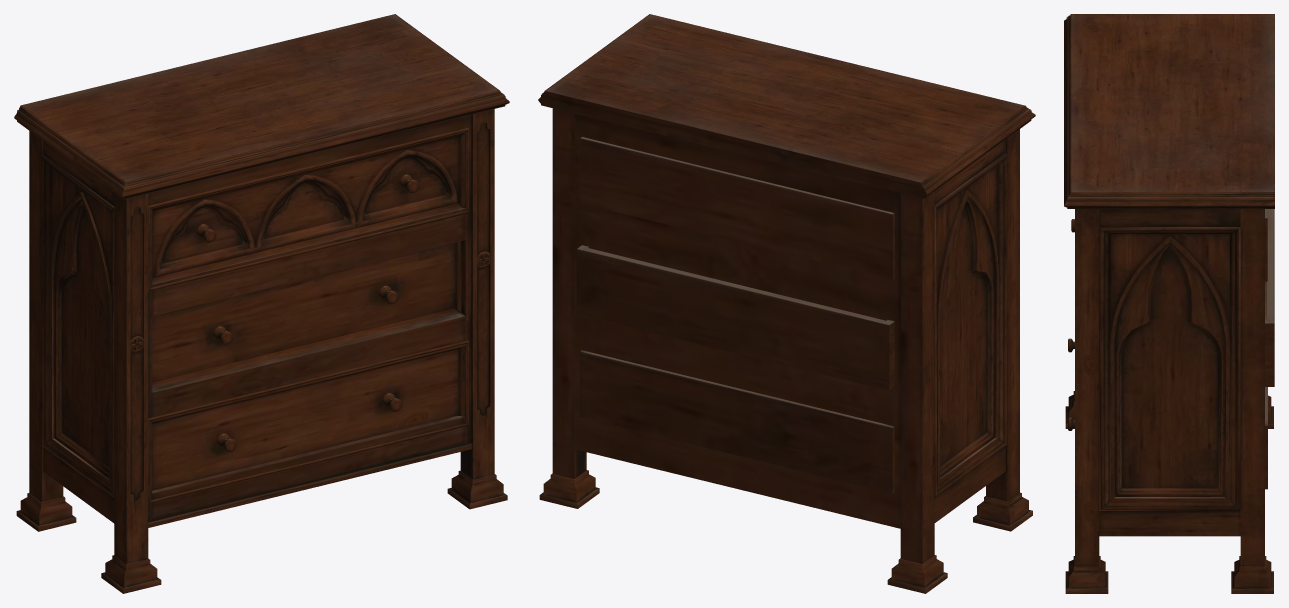
File: commode.glb
The picture shows the model from 3 angles, left to right: view 1: azimuth 30°, elevation 25°; view 2: azimuth 150°, elevation 25°; view 3: azimuth 270°, elevation 25°; orthographic projection. The views are drawn at different scales.
Parts seen in each view (by area): view 1: GothicCommode_01; view 2: GothicCommode_01; view 3: GothicCommode_01.
Boxes of the visible parts, left/top/right/bottom form: GothicCommode_01: left=14, top=14, right=509, bottom=593; GothicCommode_01: left=538, top=14, right=1035, bottom=593; GothicCommode_01: left=1064, top=14, right=1274, bottom=593.
Bounding box in the file's own units: 1.2 × 1.21 × 0.5806.
Materials: 1 (1 with a texture image).
